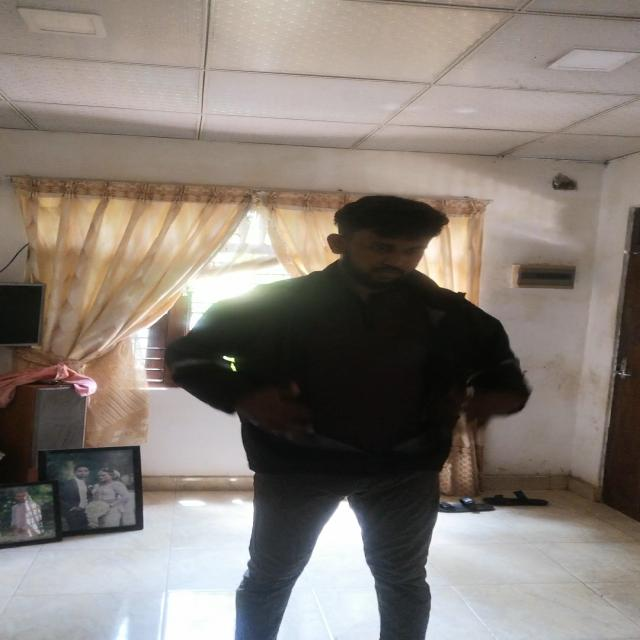Jacket_Wearer: (194, 263, 529, 497)
Person: (180, 187, 533, 640)
